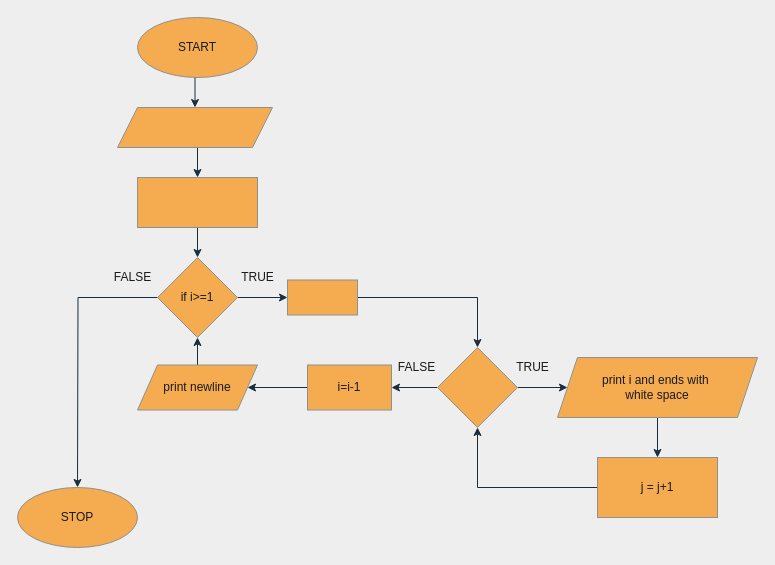
The diagram is 775 pixels wide and 565 high, and some of its shapes have lost their labels. Each missing label, with the centre of its shape:
"i=line" belongs at pixel 197 202.
"if j<=i" belongs at pixel 477 387.
"j = 0" belongs at pixel 322 297.
"READ line" belongs at pixel 194 127.
